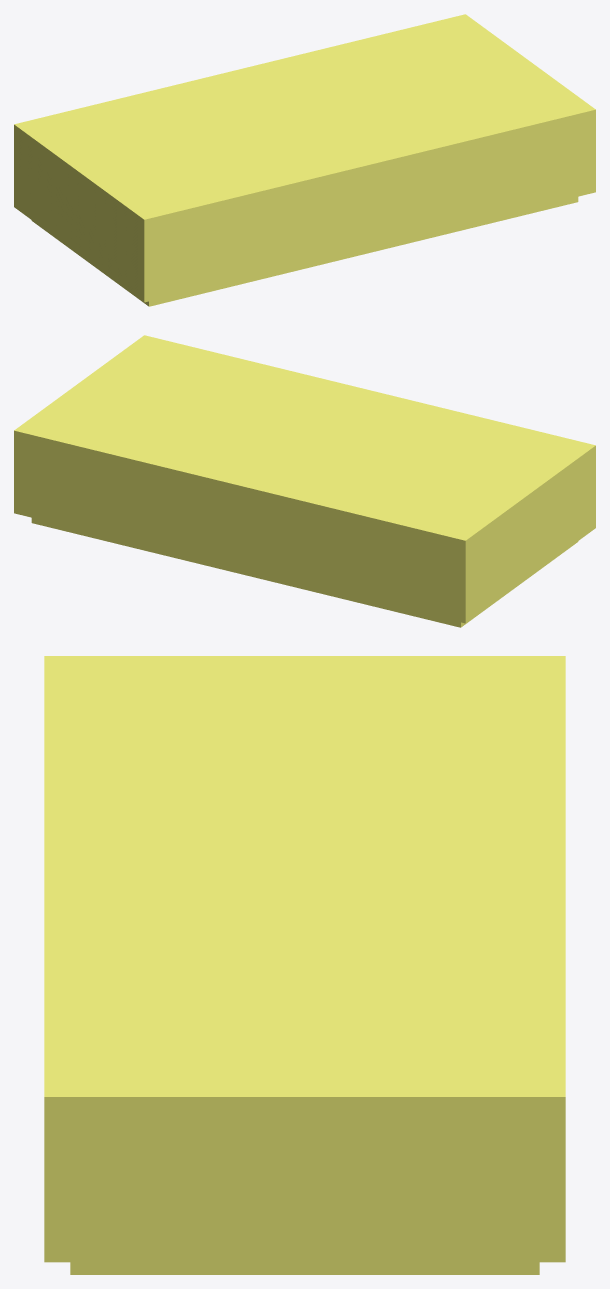
The picture shows the model from 3 angles, top to bottom: view 1: azimuth 30°, elevation 25°; view 2: azimuth 150°, elevation 25°; view 3: azimuth 270°, elevation 25°; orthographic projection. The views are drawn at different scales.
Parts seen in each view (by area): view 1: 3069b.dat; view 2: 3069b.dat; view 3: 3069b.dat.
Part boxes in pixels (x1,y1,x2,y2): 3069b.dat: (14, 14, 595, 306); 3069b.dat: (14, 335, 595, 627); 3069b.dat: (44, 656, 565, 1274).
Size of the model in its own units: 0.016 by 0.0032 by 0.008.
